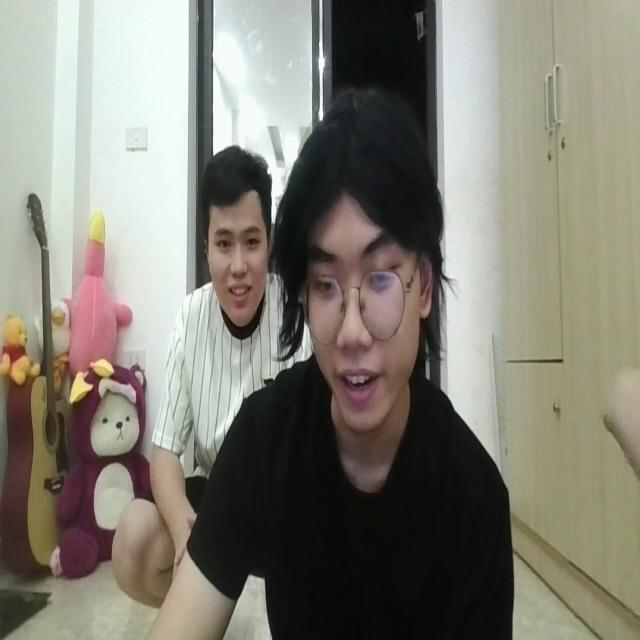extra_person: (161, 148, 309, 410)
student: (161, 77, 513, 640)
